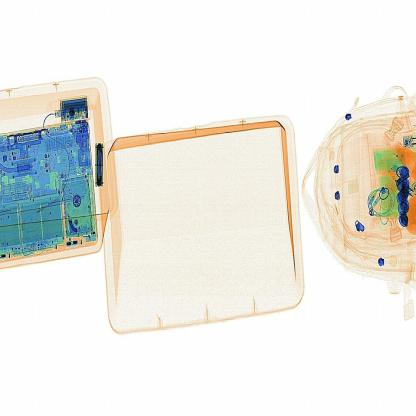scissors: (91, 132, 103, 195)
